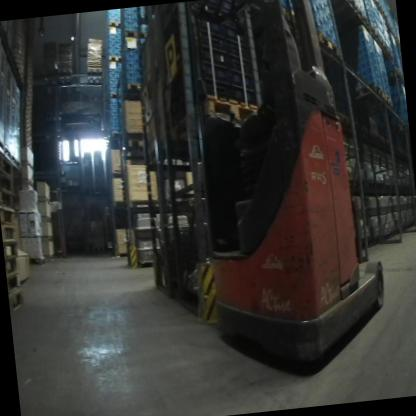forklift: (186, 0, 394, 384)
pallet: (200, 90, 260, 128), (351, 80, 394, 111), (317, 29, 339, 55), (0, 161, 15, 195), (5, 269, 22, 298), (7, 286, 24, 315), (0, 183, 15, 213), (0, 144, 12, 178), (0, 202, 16, 227), (352, 3, 369, 26), (2, 239, 19, 262), (379, 35, 394, 61), (4, 254, 19, 277), (124, 27, 148, 41), (386, 67, 404, 85), (1, 223, 16, 244), (368, 22, 381, 43), (127, 136, 145, 148), (126, 80, 142, 91), (86, 64, 102, 73), (57, 67, 73, 76), (108, 54, 122, 63), (87, 75, 102, 82), (108, 20, 121, 28), (340, 0, 355, 6), (110, 92, 120, 99)
